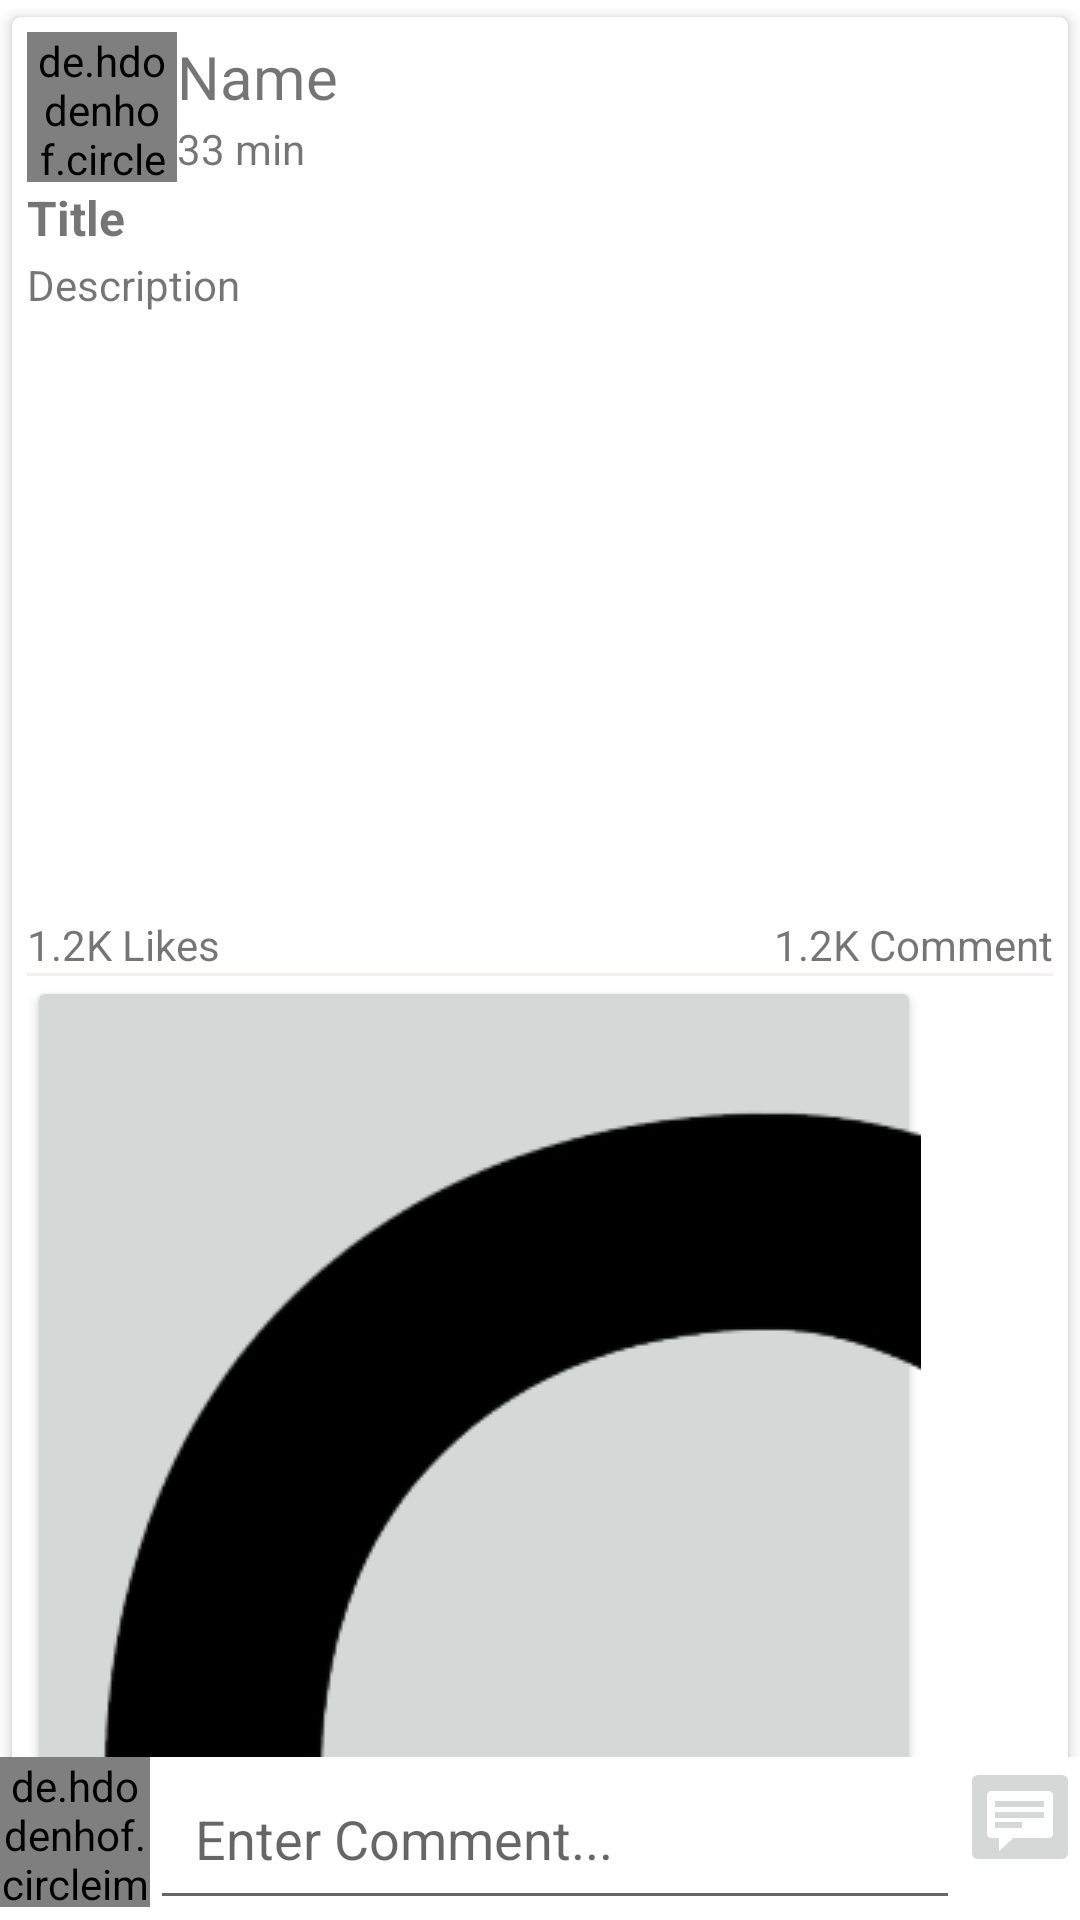

Icons on this 1080×1920 Android screen, each with the point to tap as (x=x, y=y):
chat: (x=1020, y=1817)
